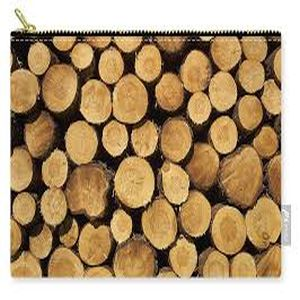log: (219, 148, 267, 212), (66, 162, 113, 220), (114, 157, 156, 209), (41, 64, 80, 117), (111, 73, 150, 124), (143, 199, 179, 251), (245, 197, 281, 249), (113, 238, 157, 280), (62, 119, 100, 167), (210, 206, 247, 255), (78, 78, 112, 127), (157, 160, 193, 206), (187, 144, 222, 189), (160, 118, 194, 164), (180, 191, 211, 239), (76, 225, 113, 265), (22, 115, 56, 158), (131, 45, 166, 84), (11, 70, 40, 115), (128, 120, 161, 159), (181, 52, 212, 93), (209, 70, 238, 113), (99, 120, 130, 159), (208, 116, 239, 155), (46, 248, 85, 279), (154, 72, 184, 112), (210, 34, 242, 71), (169, 238, 199, 277), (39, 187, 67, 228), (236, 59, 266, 97), (10, 148, 34, 194), (237, 93, 263, 134), (40, 149, 68, 187), (23, 41, 53, 76), (108, 209, 136, 244), (198, 249, 229, 280), (185, 91, 211, 126), (259, 80, 283, 117), (99, 48, 124, 83), (28, 226, 54, 259), (11, 192, 37, 224), (255, 128, 280, 161), (66, 42, 94, 70), (243, 34, 269, 63), (55, 219, 80, 248), (230, 252, 256, 278), (154, 36, 189, 52), (115, 35, 143, 52), (54, 35, 77, 51)
